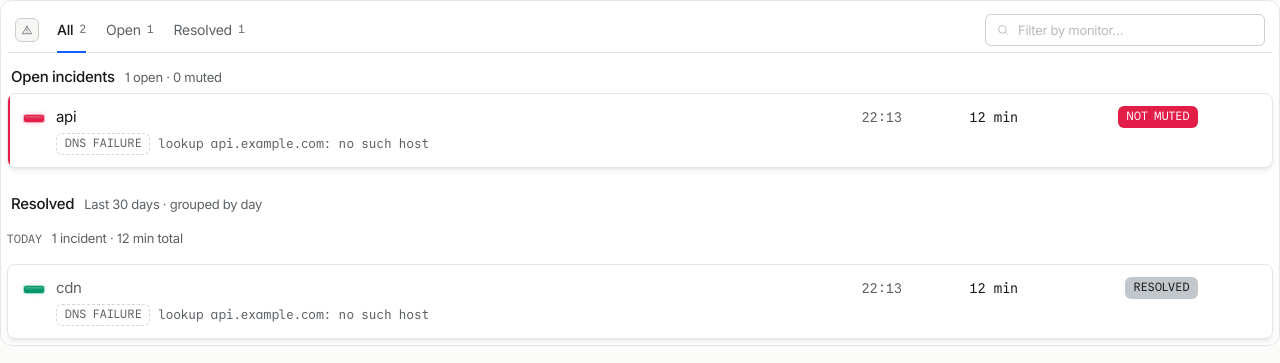
Scenario: the incidents header holds the controls, and everything in it works › scopes to resolved by hiding the open list
Click the button "Resolved 1": (209, 30) [166, 7, 253, 52]
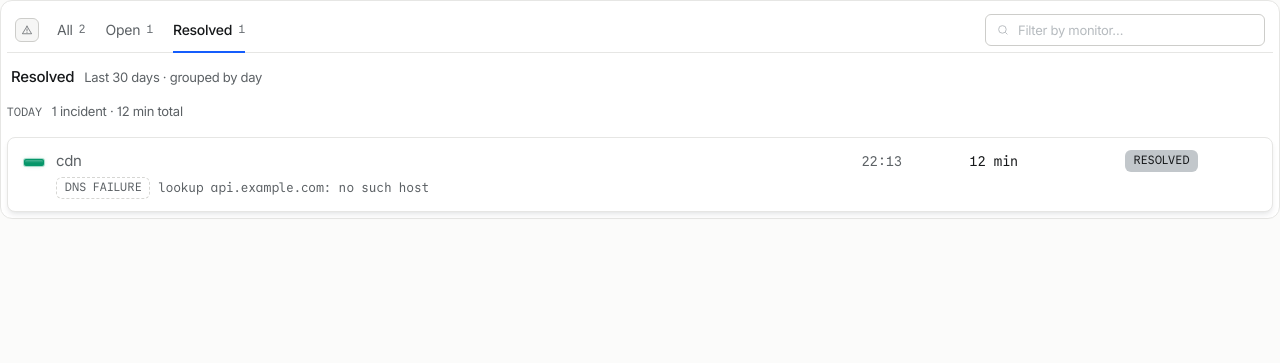
Expected: the heading "Resolved" is shown, [11, 67, 74, 87]
Now the heading "Open incidents" is gone
